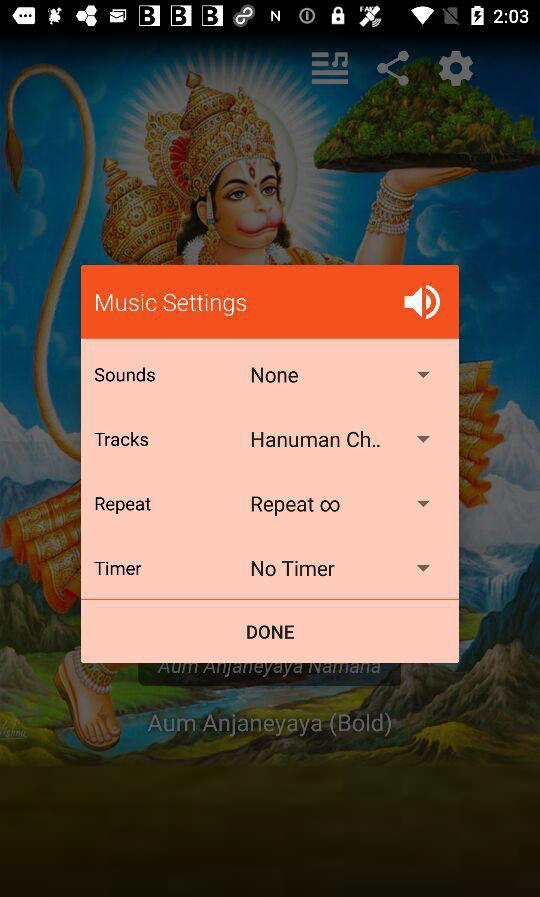Icon: (439, 51, 474, 87), (312, 53, 349, 86), (376, 51, 409, 87), (416, 565, 431, 573), (417, 436, 430, 443), (417, 501, 430, 508), (418, 372, 430, 379)
Image: (403, 286, 442, 321)
Modal: (81, 265, 459, 663)
Text: (148, 712, 392, 737), (96, 292, 247, 317), (251, 432, 380, 449), (252, 496, 340, 517), (252, 560, 336, 578), (96, 497, 154, 516), (95, 367, 157, 384), (95, 431, 151, 448), (252, 367, 299, 384), (96, 561, 145, 577)
TextButton: (82, 600, 459, 663)
UpperTaskBar: (1, 1, 540, 33)
